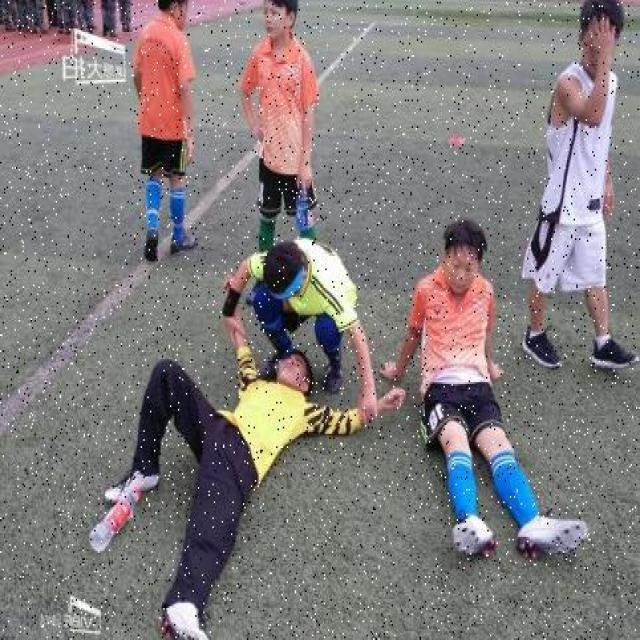fall: (113, 342, 377, 618), (420, 228, 524, 532)
